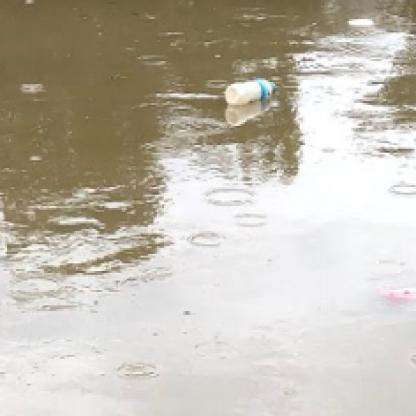plastic bottle: (224, 78, 276, 103)
